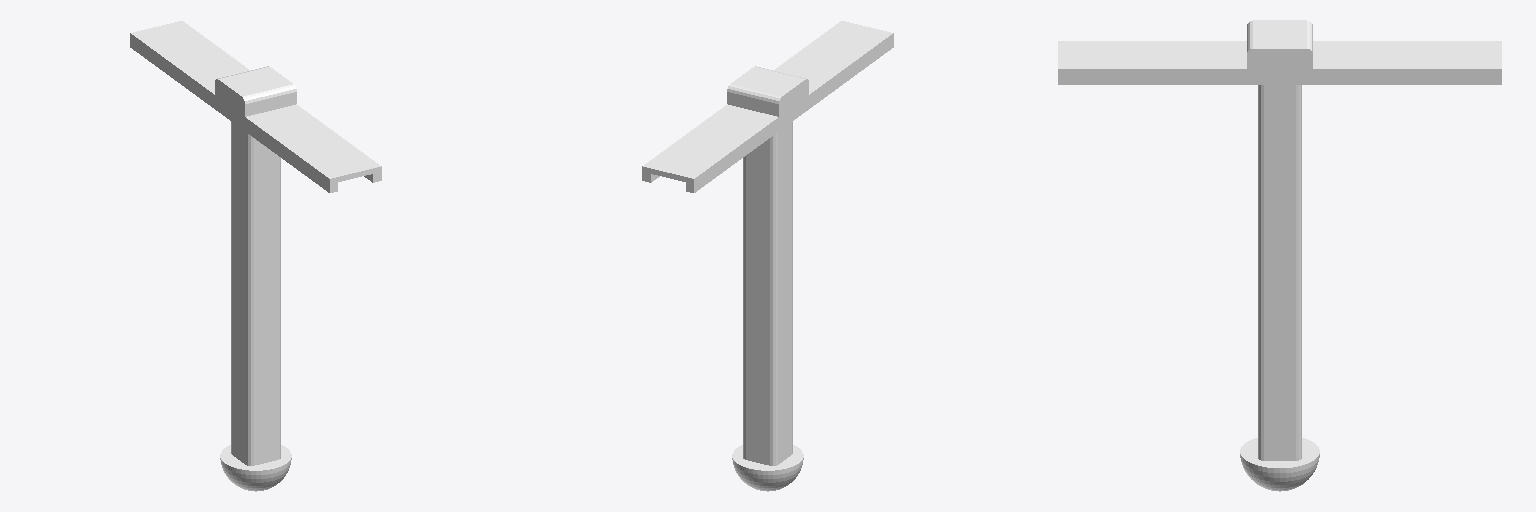
URDF robot description (RLSLIP):
<?xml version="1.0" encoding="utf-8"?>
<robot name="RLSLIP">
  <mujoco>
    <compiler meshdir="../meshes/" balanceinertia="true" discardvisual="false"/>
  </mujoco>
  <link
    name="base_link">
    <inertial>
      <origin
        xyz="-0.0014035 0.0 -0.049588"
        rpy="0 0 0" />
      <mass
        value="2.6327" />
      <inertia
        ixx="0.015649"
        ixy="0.0"
        ixz="-0.00010128"
        iyy="0.014904"
        iyz="0.0"
        izz="0.027811" />
    </inertial>
    <visual>
      <origin
        xyz="0 0 0"
        rpy="0 0 0" />
      <geometry>
        <mesh
          filename="../meshes/base_link.STL" />
      </geometry>
      <material
        name="">
        <color
          rgba="1 1 1 1" />
      </material>
    </visual>
    <collision>
      <origin
        xyz="0 0 0"
        rpy="0 0 0" />
      <geometry>
        <!-- <mesh
          filename="../meshes/base_link.STL" /> -->
        <sphere radius="0.185"/>
      </geometry>
    </collision>
  </link>
  <link
    name="xdof_Link">
    <inertial>
      <origin
        xyz="0.0 0.0 -0.011032"
        rpy="0 0 0" />
      <mass
        value="0.025" />
      <inertia
        ixx="9.6505E-05"
        ixy="0.0"
        ixz="0.0"
        iyy="4.3121E-06"
        iyz="0.0"
        izz="9.9536E-05" />
    </inertial>
    <visual>
      <origin
        xyz="0 0 0"
        rpy="0 0 0" />
      <geometry>
        <mesh
          filename="../meshes/xdof_Link.STL" />
      </geometry>
      <material
        name="">
        <color
          rgba="1 1 1 1" />
      </material>
    </visual>
    <!-- <collision>
      <origin
        xyz="0 0 0"
        rpy="0 0 0" />
      <geometry>
        <mesh
          filename="../meshes/xdof_Link.STL" />
      </geometry>
    </collision> -->
  </link>
  <joint
    name="xdof_Joint"
    type="prismatic">
    <origin
      xyz="0 0 -0.072"
      rpy="0 0 0" />
    <parent
      link="base_link" />
    <child
      link="xdof_Link" />
    <axis
      xyz="1 0 0" />
    <limit
      lower="-0.075"
      upper="0.075"
      effort="100"
      velocity="2.0" />
  </joint>
  <link
    name="ydof_Link">
    <inertial>
      <origin
        xyz="0.0 0.0 -0.097"
        rpy="0 0 0" />
      <mass
        value="0.050" />
      <inertia
        ixx="0.00016108"
        ixy="0.0"
        ixz="0.0"
        iyy="0.00016108"
        iyz="0.0"
        izz="4.4136E-06" />
    </inertial>
    <visual>
      <origin
        xyz="0 0 0"
        rpy="0 0 0" />
      <geometry>
        <mesh
          filename="../meshes/ydof_Link.STL" />
      </geometry>
      <material
        name="">
        <color
          rgba="1 1 1 1" />
      </material>
    </visual>
    <!-- <collision>
      <origin
        xyz="0 0 0"
        rpy="0 0 0" />
      <geometry>
        <mesh
          filename="../meshes/ydof_Link.STL" />
      </geometry>
    </collision> -->
  </link>
  <joint
    name="ydof_Joint"
    type="prismatic">
    <origin
      xyz="0 0 -0.013"
      rpy="0 0 0" />
    <parent
      link="xdof_Link" />
    <child
      link="ydof_Link" />
    <axis
      xyz="0 -1 0" />
    <limit
      lower="-0.075"
      upper="0.075"
      effort="100"
      velocity="2.0" />
  </joint>
  <link
    name="zdof_Link">
    <inertial>
      <origin
        xyz="0.0 0.0 0.0046192"
        rpy="0 0 0" />
      <mass
        value="0.020" />
      <inertia
        ixx="7.069E-06"
        ixy="0.0"
        ixz="0.0"
        iyy="7.069E-06"
        iyz="0.0"
        izz="1.7683E-06" />
    </inertial>
    <visual>
      <origin
        xyz="0 0 0"
        rpy="0 0 0" />
      <geometry>
        <mesh
          filename="../meshes/zdof_Link.STL" />
      </geometry>
      <material
        name="">
        <color
          rgba="1 1 1 1" />
      </material>
    </visual>
    <collision>
      <origin
        xyz="0 0 0"
        rpy="0 0 0" />
      <geometry>
        <mesh
          filename="../meshes/zdof_Link.STL" />
      </geometry>
    </collision>
  </link>
  <joint
    name="zdof_Joint"
    type="prismatic">
    <origin
      xyz="0 0 -0.194"
      rpy="0 0 0" />
    <parent
      link="ydof_Link" />
    <child
      link="zdof_Link" />
    <axis
      xyz="0 0 -1" />
    <limit
      lower="0.0"
      upper="0.075"
      effort="150"
      velocity="2.0" />
  </joint>
</robot>

--- Render facts (derived) ---
The picture shows the robot from 3 angles, left to right: view 1: azimuth 30°, elevation 25°; view 2: azimuth 150°, elevation 25°; view 3: azimuth 270°, elevation 25°; orthographic projection.
Robot: RLSLIP — 4 links, 3 joints (3 prismatic); root link base_link; default pose: all joints at 0.
Visible links, largest first — view 1: ydof_Link, xdof_Link, zdof_Link; view 2: ydof_Link, xdof_Link, zdof_Link; view 3: xdof_Link, ydof_Link, zdof_Link.
Link boxes in pixels (bbox=[...]): ydof_Link: bbox=[231, 122, 280, 465]; xdof_Link: bbox=[130, 21, 381, 192]; zdof_Link: bbox=[220, 445, 291, 491]; ydof_Link: bbox=[743, 122, 792, 465]; xdof_Link: bbox=[642, 21, 893, 192]; zdof_Link: bbox=[732, 445, 803, 491]; xdof_Link: bbox=[1058, 20, 1501, 84]; ydof_Link: bbox=[1258, 85, 1301, 460]; zdof_Link: bbox=[1240, 438, 1319, 491].
Size in the robot's own frame: 0.036 by 0.2 by 0.225 metres.
Meshes: 4 distinct files referenced, 3 mesh visuals loaded (3 binary STL); not drawn: 1 (reference not matched to a file when rendering).